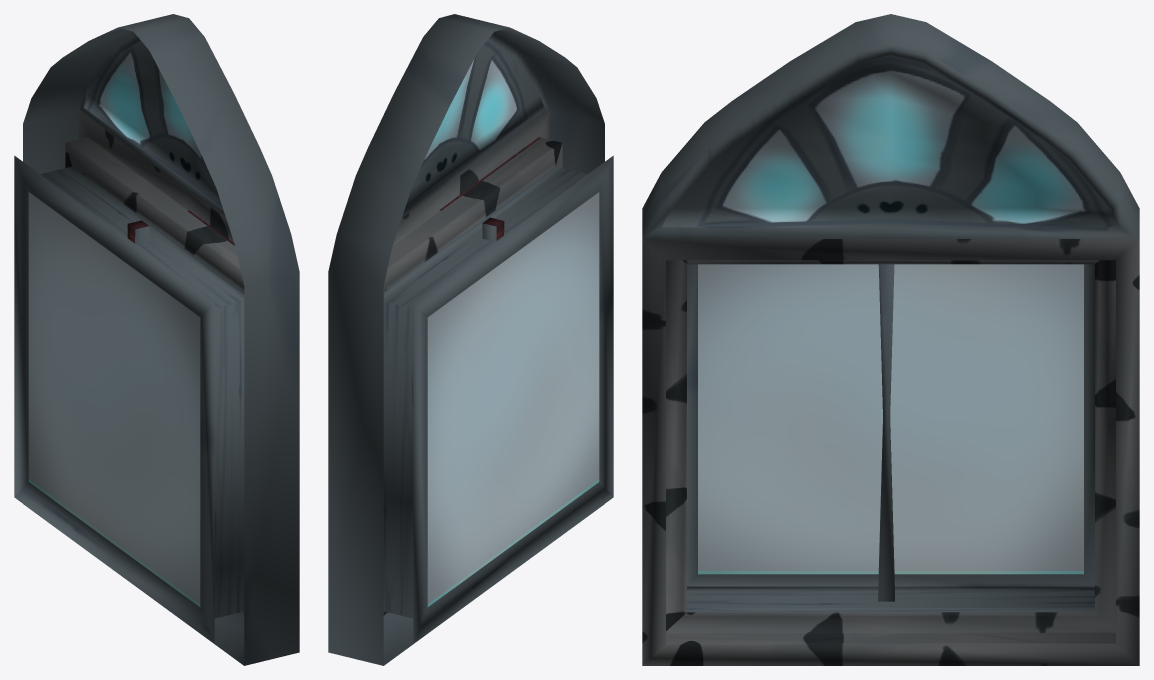
File: Janela.fbx
3 views of the same model, side by side, from view 1: azimuth 30°, elevation 25°; view 2: azimuth 150°, elevation 25°; view 3: azimuth 270°, elevation 25° (orthographic). The views are drawn at different scales.
Parts seen in each view (by area): view 1: Janela; view 2: Janela; view 3: Janela.
Boxes of the visible parts, left/top/right/bottom form: Janela: left=14, top=14, right=299, bottom=665; Janela: left=328, top=14, right=613, bottom=665; Janela: left=642, top=14, right=1139, bottom=665.
Bounding box in the file's own units: 58.01 × 298 × 410.
